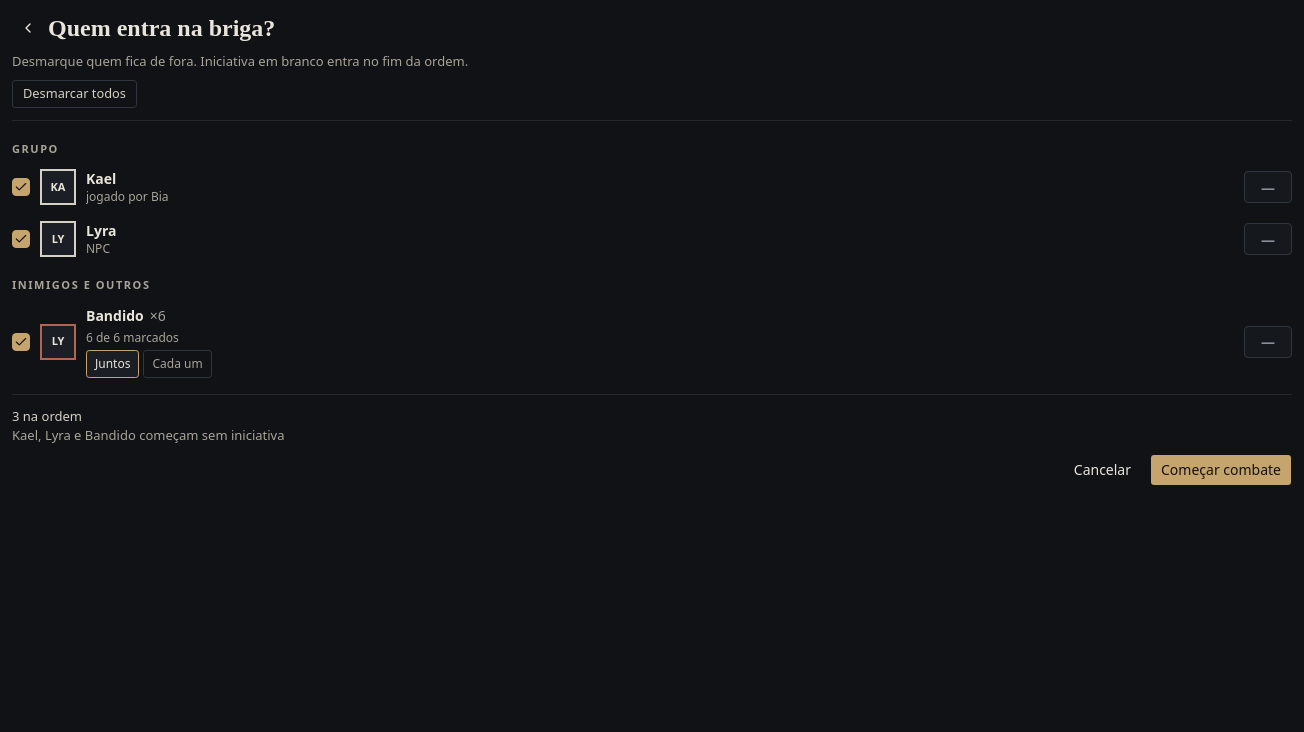
Test: CombatPrep › "abc" in Kael marks the field invalid, says why, and blocks "Começar combate"
This screenshot has width=1304, height=732.
Type "abc" into the field named "Iniciativa de Kael". click: (1268, 187)
box: top-left (1244, 171), bottom-right (1292, 203)
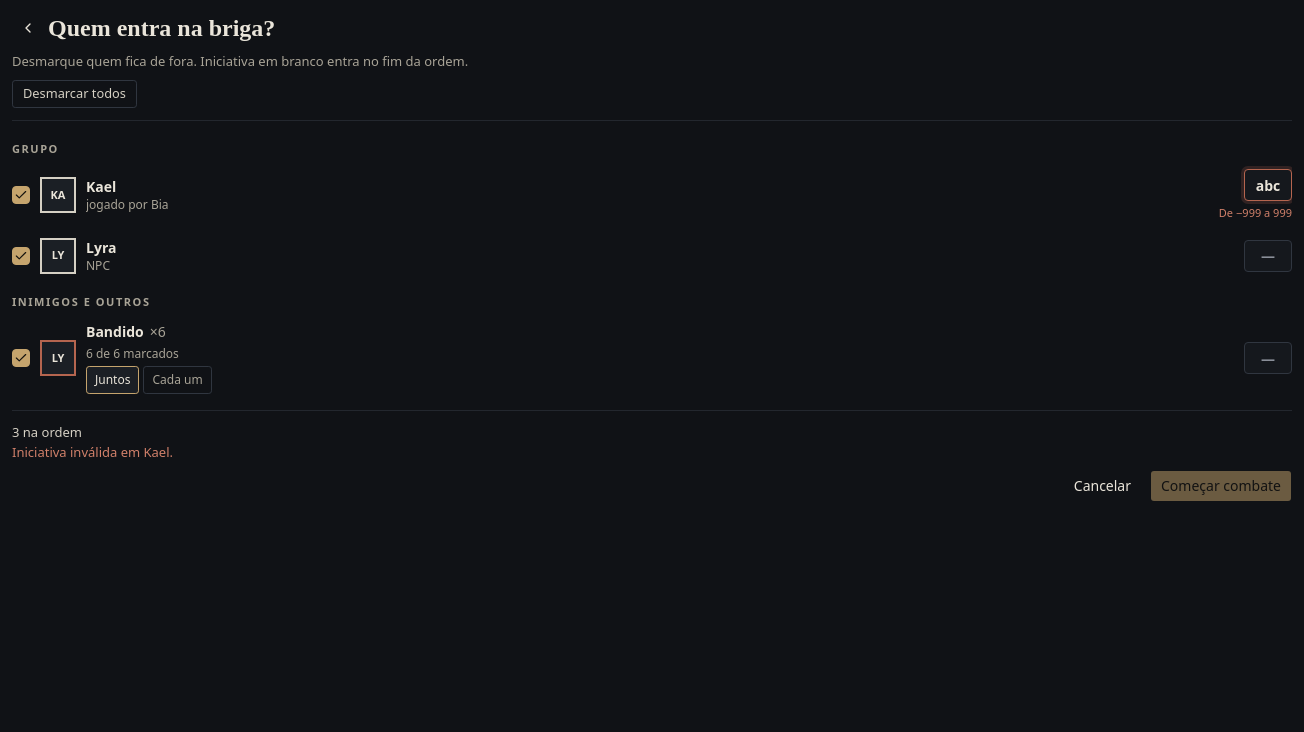
Expected: the text "Iniciativa inválida em Kael." is shown, top-left (12, 442), bottom-right (173, 460)
Expected: the button "Começar combate" is disabled, top-left (1150, 470), bottom-right (1292, 502)
